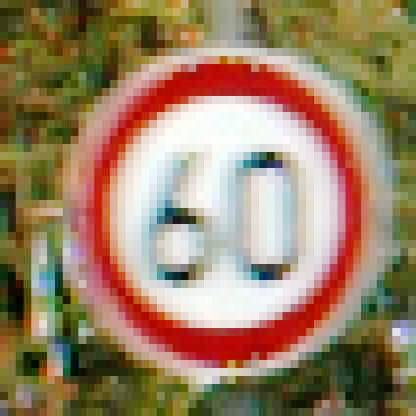Speed Limit -60-: (62, 53, 374, 375)
